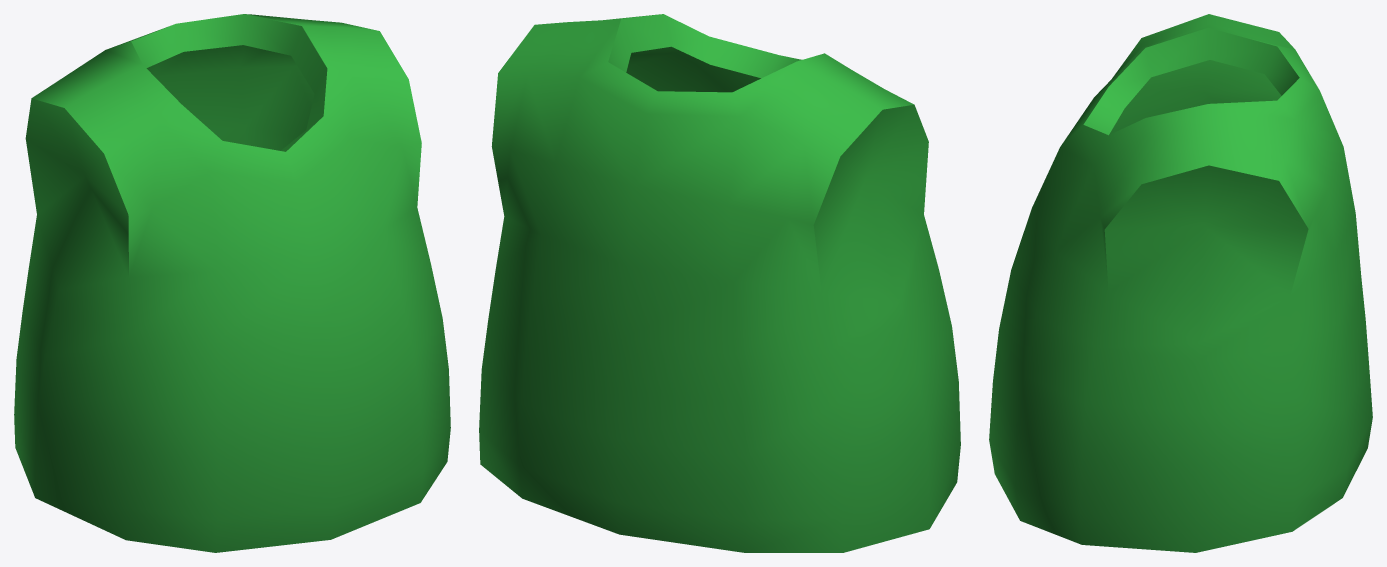
The model's file is Top_60.fbx.
The picture shows the model from 3 angles, left to right: view 1: azimuth 30°, elevation 25°; view 2: azimuth 150°, elevation 25°; view 3: azimuth 270°, elevation 25°; orthographic projection. The views are drawn at different scales.
Parts seen in each view (by area): view 1: Top_60; view 2: Top_60; view 3: Top_60.
Boxes of the visible parts, bbox=[...] form: Top_60: bbox=[14, 14, 450, 552]; Top_60: bbox=[479, 14, 960, 552]; Top_60: bbox=[989, 14, 1372, 552].
Bounding box in the file's own units: 40.41 × 41.36 × 35.24.
